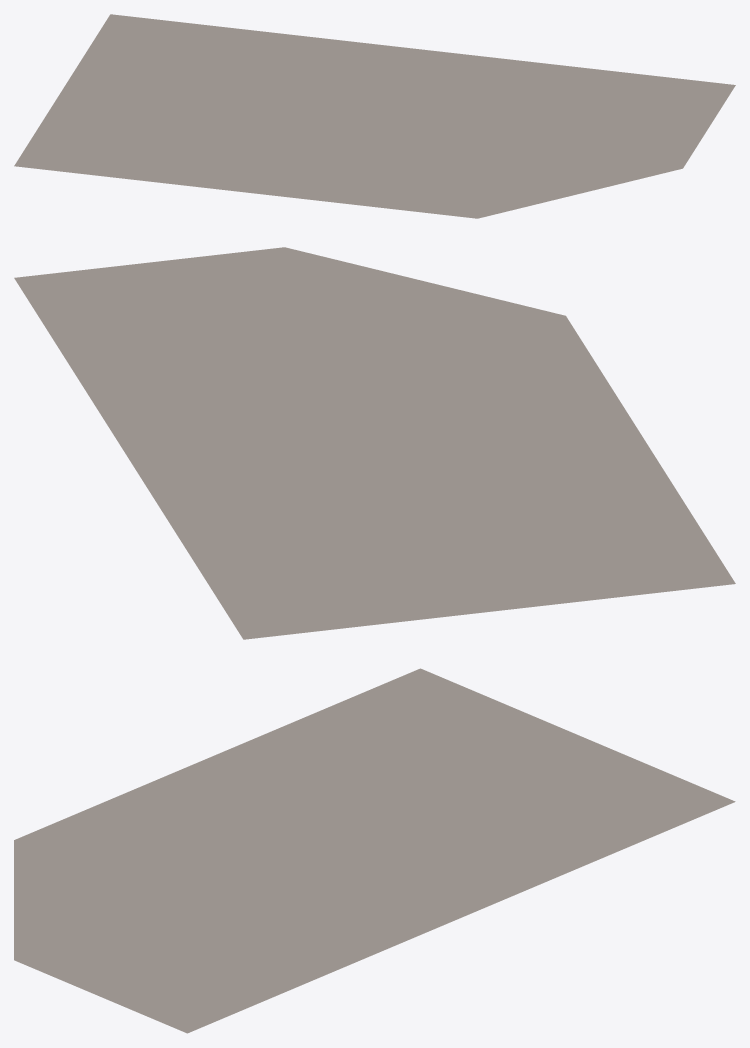
File: kd_stage_135c43_4_96_bounded_piece_5.glb
The picture shows the model from 3 angles, top to bottom: view 1: azimuth 30°, elevation 25°; view 2: azimuth 150°, elevation 25°; view 3: azimuth 270°, elevation 25°; orthographic projection. The views are drawn at different scales.
Parts seen in each view (by area): view 1: kd_stage_135c43_4_96_bounded_piece_5; view 2: kd_stage_135c43_4_96_bounded_piece_5; view 3: kd_stage_135c43_4_96_bounded_piece_5.
Part boxes in pixels (<box>): kd_stage_135c43_4_96_bounded_piece_5: <box>14,14,735,218</box>; kd_stage_135c43_4_96_bounded_piece_5: <box>14,247,735,639</box>; kd_stage_135c43_4_96_bounded_piece_5: <box>14,668,735,1033</box>.
Bounding box in the file's own units: 0.9794 × 0 × 0.8184.
Materials: 1 (1 with a texture image).
